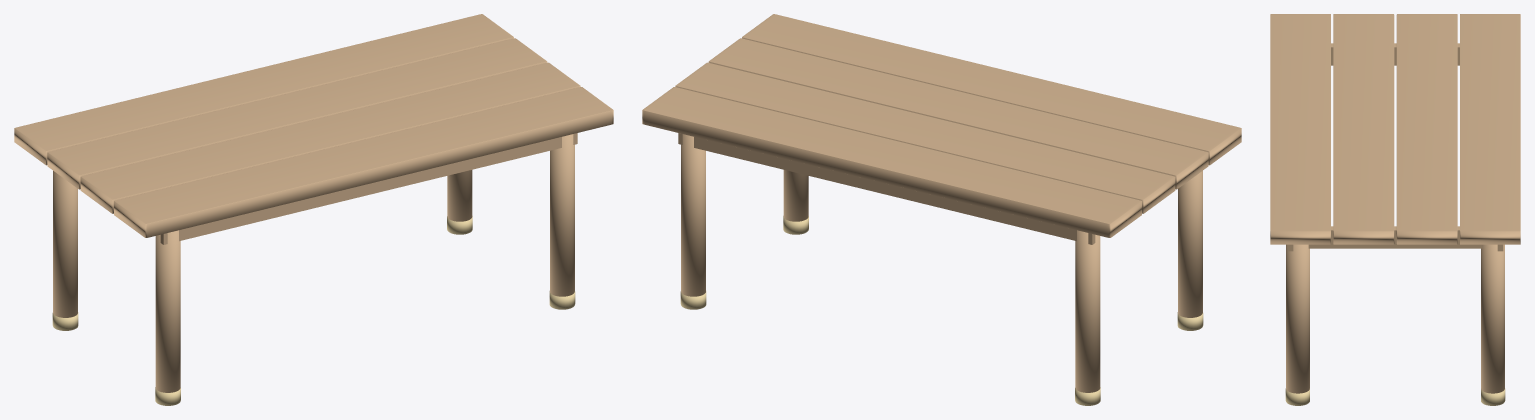
File: table_dining.glb
3 renders of one model, left to right at view 1: azimuth 30°, elevation 25°; view 2: azimuth 150°, elevation 25°; view 3: azimuth 270°, elevation 25°, orthographic. The views are drawn at different scales.
Visible parts, largest first — view 1: Cube, Cube.002, Cube.001, Cube.003, Cube.004, Cylinder.001, Cylinder.004, Cylinder.007, Cylinder.010; view 2: Cube.003, Cube.001, Cube.002, Cube, Cube.005, Cylinder.007, Cylinder.010, Cylinder.001, Cylinder.004; view 3: Cube.001, Cube.002, Cube, Cube.003, Cylinder.004, Cylinder.010, Cube.007, Cylinder.005, Cylinder.011.
Boxes of the visible parts, x1,y1,x2,y2 form: Cube: (114,87,613,237); Cube.002: (47,38,547,189); Cube.001: (80,62,580,213); Cube.003: (14,14,513,165); Cube.004: (160,133,577,244); Cylinder.001: (155,230,180,392); Cylinder.004: (550,134,574,296); Cylinder.007: (53,171,77,317); Cylinder.010: (447,170,472,221); Cube.003: (642,87,1141,237); Cube.001: (708,38,1208,189); Cube.002: (675,62,1175,213); Cube: (742,14,1241,165); Cube.005: (678,133,1095,244); Cylinder.007: (1075,230,1100,392); Cylinder.010: (681,134,705,296); Cylinder.001: (1178,171,1202,317); Cylinder.004: (783,170,808,221); Cube.001: (1333,14,1394,244); Cube.002: (1396,14,1457,244); Cube: (1270,14,1330,244); Cube.003: (1460,14,1520,244); Cylinder.004: (1286,244,1309,393); Cylinder.010: (1481,244,1504,393); Cube.007: (1308,226,1482,248); Cylinder.005: (1285,388,1309,405); Cylinder.011: (1481,388,1505,405).
Size of the model in its own units: 1.9 by 0.76 by 0.925.
